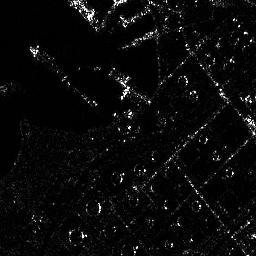ship: (26, 45, 61, 75)
